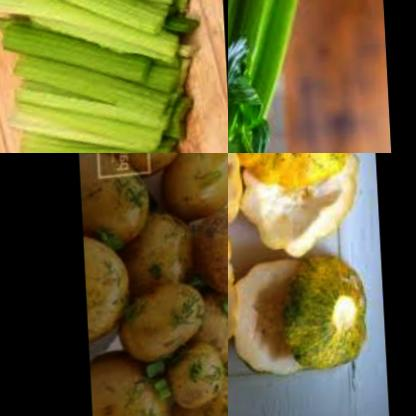celery: (0, 0, 213, 153), (228, 0, 323, 153)
potato: (126, 195, 207, 299), (78, 153, 161, 249), (121, 280, 210, 363), (82, 225, 145, 342), (86, 341, 170, 416), (161, 338, 226, 416), (164, 153, 228, 225), (151, 366, 228, 416), (196, 201, 228, 300), (92, 153, 182, 179), (208, 287, 228, 376)
squash-patisson: (228, 153, 357, 261), (231, 249, 316, 392), (286, 264, 372, 385), (228, 153, 356, 198)
